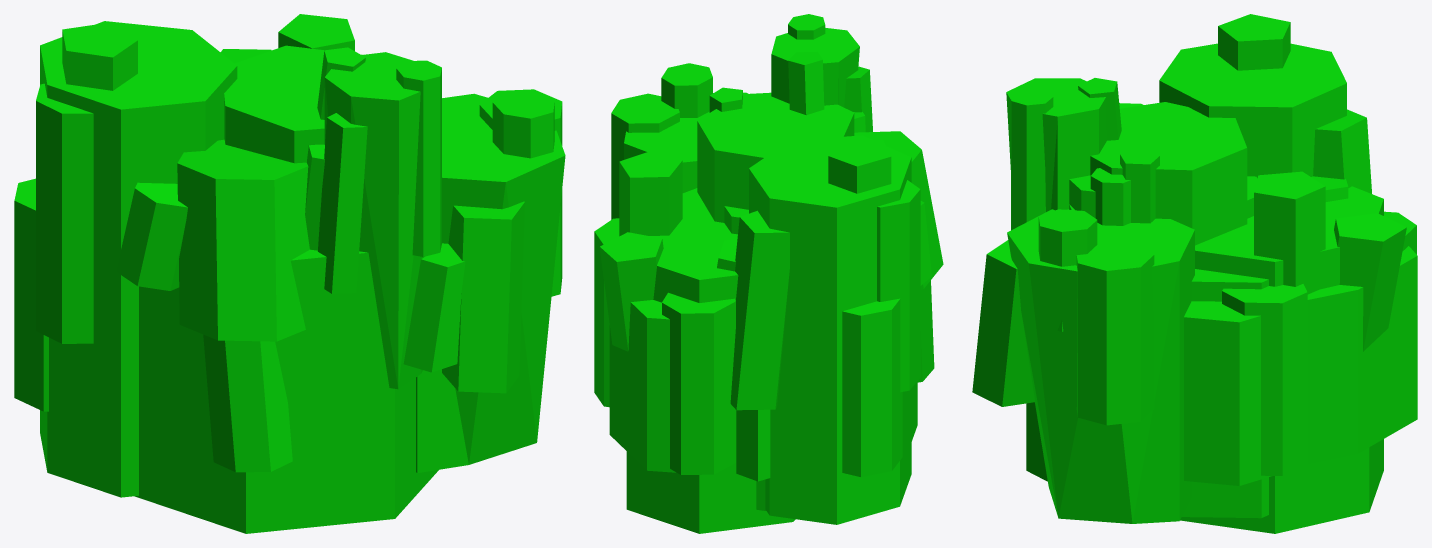
File: stone_10m (1).fbx
3 views of the same model, side by side, from view 1: azimuth 30°, elevation 25°; view 2: azimuth 150°, elevation 25°; view 3: azimuth 270°, elevation 25° (orthographic). The views are drawn at different scales.
Visible parts, largest first — view 1: Stone 10m.001; view 2: Stone 10m.001; view 3: Stone 10m.001.
Part boxes in pixels (x1=…): Stone 10m.001: x1=14, y1=14, x2=565, y2=533; Stone 10m.001: x1=594, y1=14, x2=943, y2=533; Stone 10m.001: x1=972, y1=14, x2=1417, y2=533.
Size of the model in its own units: 1000 by 1000 by 1000.
